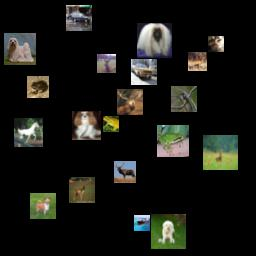automobile: (131, 59, 157, 85), (66, 5, 92, 31)
bird: (171, 86, 197, 112)
cat: (208, 36, 224, 52)
deer: (203, 135, 238, 170), (117, 89, 143, 115), (69, 177, 95, 203), (114, 161, 136, 183), (188, 52, 207, 71), (97, 54, 116, 73)
dog: (137, 23, 172, 58), (151, 214, 186, 249), (4, 33, 36, 65), (72, 111, 101, 140), (30, 193, 56, 219)
frog: (157, 125, 189, 157), (27, 76, 49, 98), (103, 116, 119, 132)
ship: (134, 215, 150, 231)
